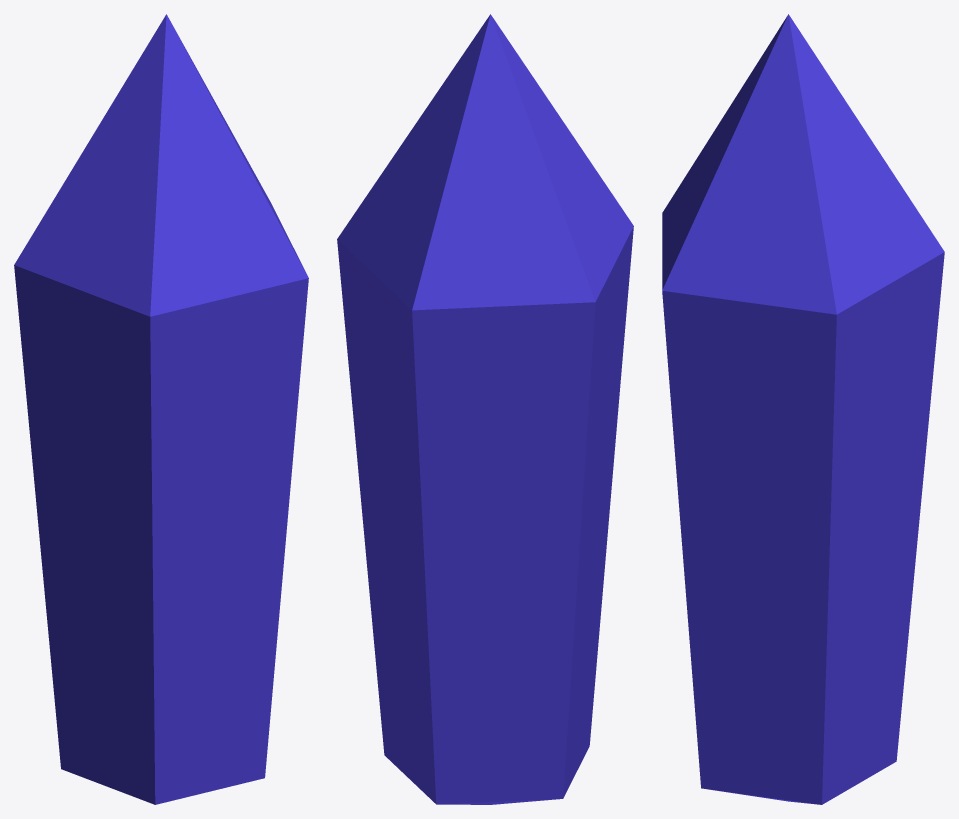
Rendered from CrystalShard.fbx.
The picture shows the model from 3 angles, left to right: view 1: azimuth 30°, elevation 25°; view 2: azimuth 150°, elevation 25°; view 3: azimuth 270°, elevation 25°; orthographic projection.
Parts seen in each view (by area): view 1: Cylinder; view 2: Cylinder; view 3: Cylinder.
Part boxes in pixels (x1=…): Cylinder: x1=14, y1=14, x2=308, y2=804; Cylinder: x1=337, y1=14, x2=633, y2=804; Cylinder: x1=662, y1=14, x2=944, y2=804.
Size of the model in its own units: 9.51 by 27.81 by 9.05.
